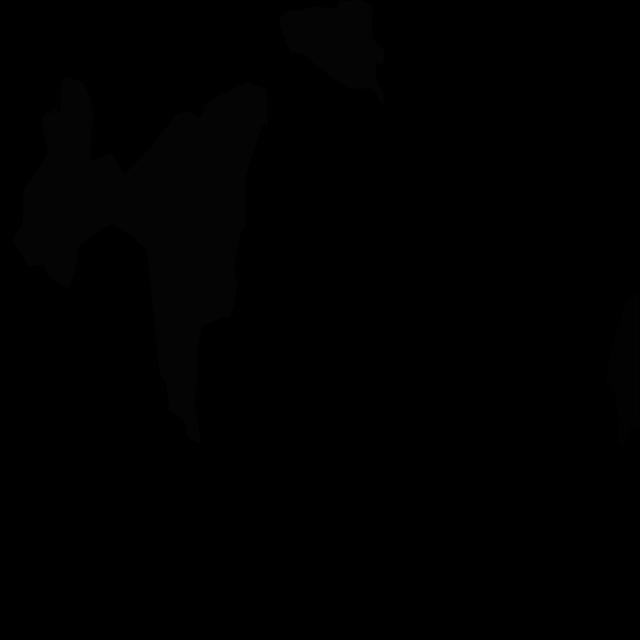cardboard: (605, 292, 640, 445)
soft_plastic: (43, 82, 268, 444), (13, 76, 94, 266), (278, 0, 385, 106)
